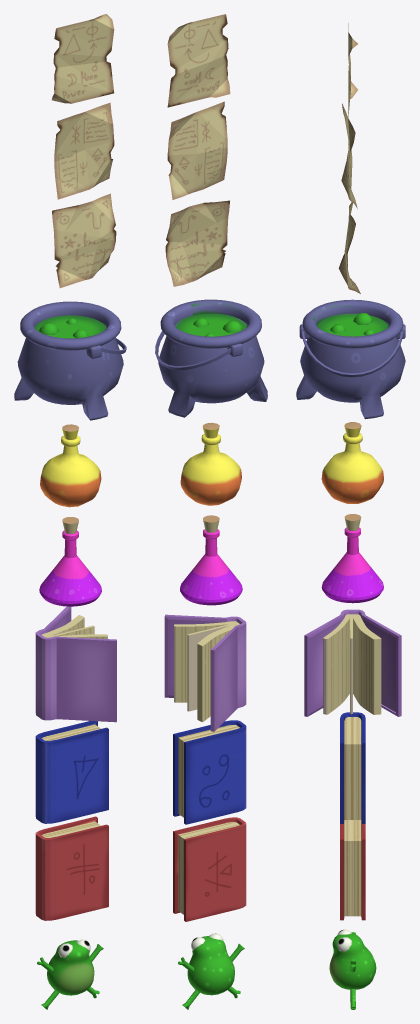
The model's file is props.glb.
3 views of the same model, side by side, from view 1: azimuth 30°, elevation 25°; view 2: azimuth 210°, elevation 25°; view 3: azimuth 270°, elevation 25° (orthographic).
Parts seen in each view (by area): view 1: pot, book_1, book_3, book_2, paper_1, paper_2, paper_3, bottle_1, bottle_2, frog; view 2: pot, book_1, book_3, book_2, paper_1, paper_2, paper_3, bottle_1, bottle_2, frog; view 3: pot, book_1, bottle_1, book_2, bottle_2, book_3, frog, paper_2, paper_3, paper_1.
Boxes of the visible parts, x1=… form: pot: x1=14, y1=301, x2=126, y2=420; book_1: x1=35, y1=606, x2=116, y2=722; book_3: x1=35, y1=816, x2=108, y2=920; book_2: x1=35, y1=721, x2=108, y2=823; paper_1: x1=52, y1=14, x2=114, y2=103; paper_2: x1=54, y1=102, x2=114, y2=199; paper_3: x1=52, y1=193, x2=116, y2=288; bottle_1: x1=40, y1=424, x2=101, y2=507; bottle_2: x1=39, y1=517, x2=101, y2=606; frog: x1=37, y1=939, x2=103, y2=1009; pot: x1=155, y1=299, x2=267, y2=417; book_1: x1=164, y1=614, x2=246, y2=731; book_3: x1=173, y1=817, x2=246, y2=921; book_2: x1=173, y1=720, x2=246, y2=824; paper_1: x1=167, y1=14, x2=230, y2=107; paper_2: x1=167, y1=101, x2=227, y2=199; paper_3: x1=165, y1=200, x2=229, y2=286; bottle_1: x1=180, y1=422, x2=241, y2=505; bottle_2: x1=180, y1=515, x2=242, y2=605; frog: x1=178, y1=933, x2=244, y2=1009; pot: x1=296, y1=299, x2=405, y2=419; book_1: x1=304, y1=609, x2=401, y2=716; bottle_1: x1=321, y1=422, x2=383, y2=503; book_2: x1=340, y1=712, x2=365, y2=823; bottle_2: x1=321, y1=514, x2=383, y2=603; book_3: x1=340, y1=820, x2=365, y2=920; frog: x1=329, y1=929, x2=376, y2=1009; paper_2: x1=341, y1=103, x2=357, y2=208; paper_3: x1=338, y1=202, x2=360, y2=293; paper_1: x1=348, y1=23, x2=357, y2=117.
Bounding box in the file's own units: 0.9213 × 9.03 × 0.9175.
1 material, 1 textured.
